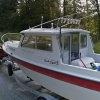Boat: (1, 19, 98, 95)
